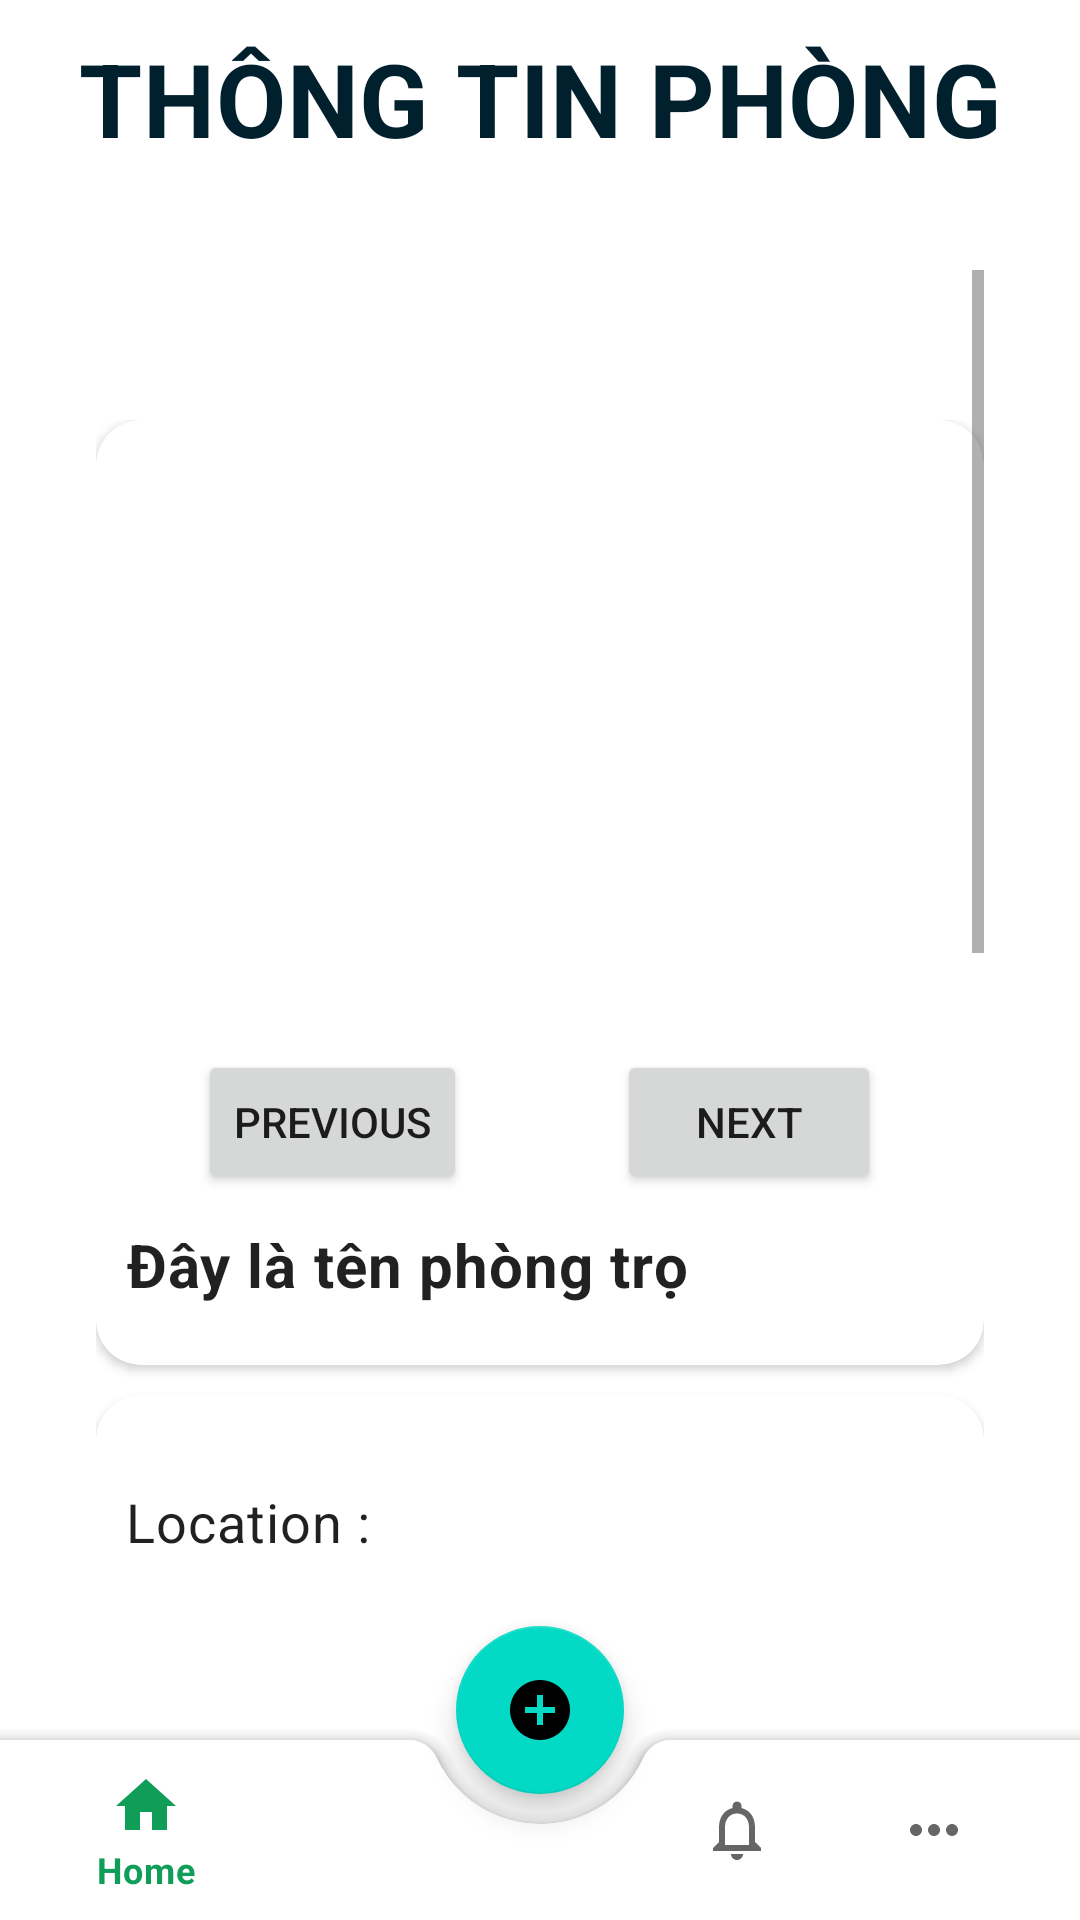

Icons on this 1080 x 1920 Android screen, each with its box as (x1, y1, x2, y2):
add: (456, 1656, 624, 1824)
